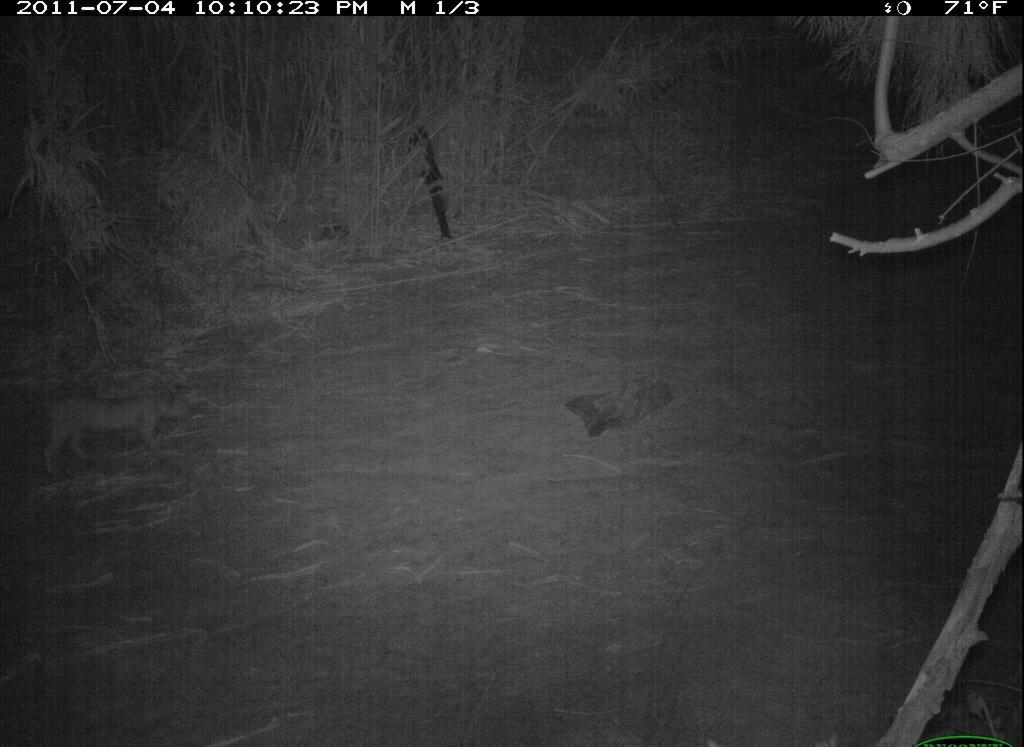bobcat: (27, 381, 225, 484)
